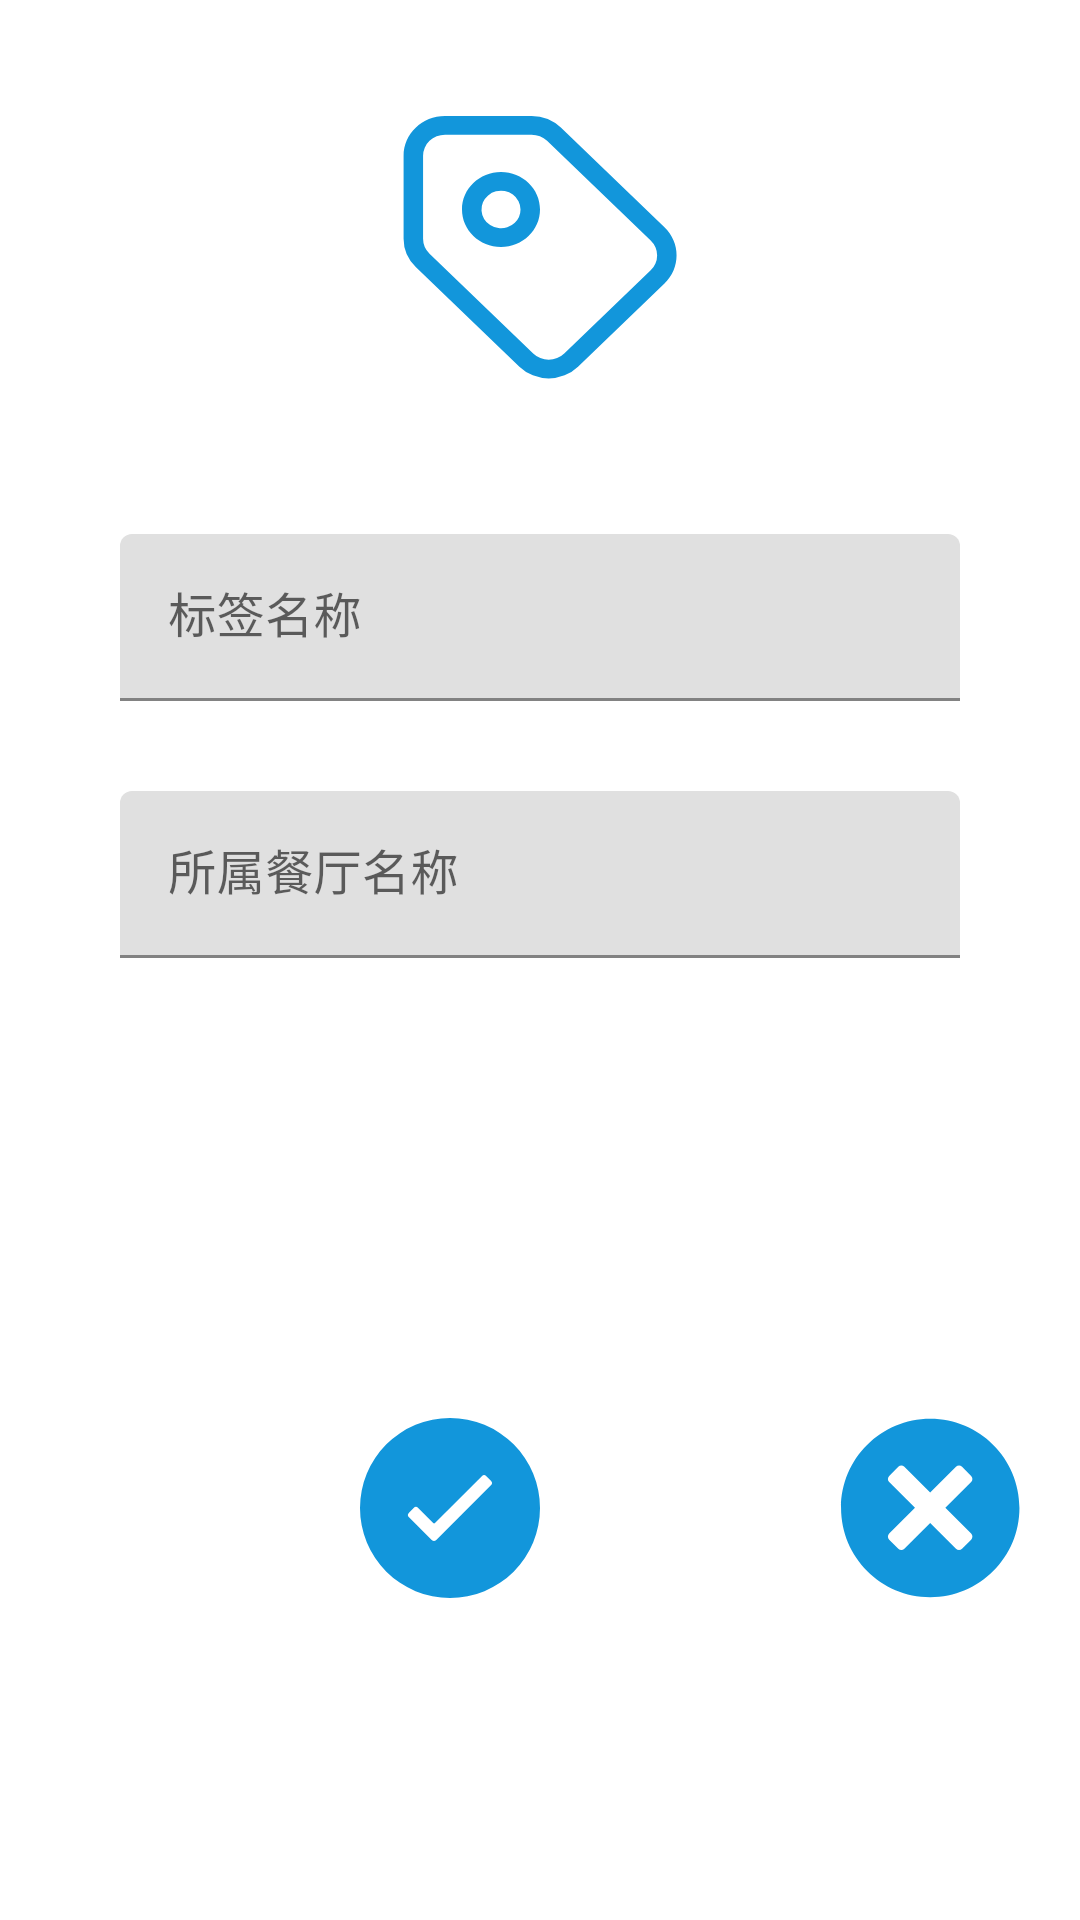

Icon bounding boxes for this 1080*1920 phone screenshot, format [x1,y1,x2,y2]:
cancel: [841,1418,1020,1598]
confirm: [360,1418,540,1598]
label title: [403,116,677,379]
